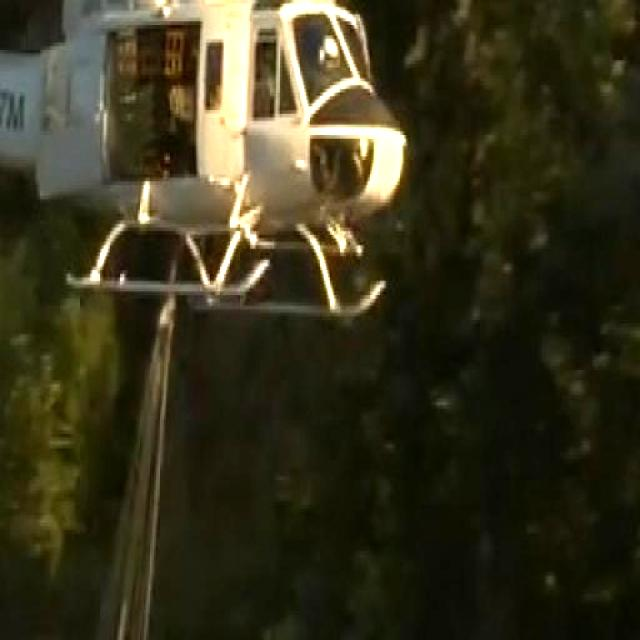drone: (0, 0, 412, 326)
